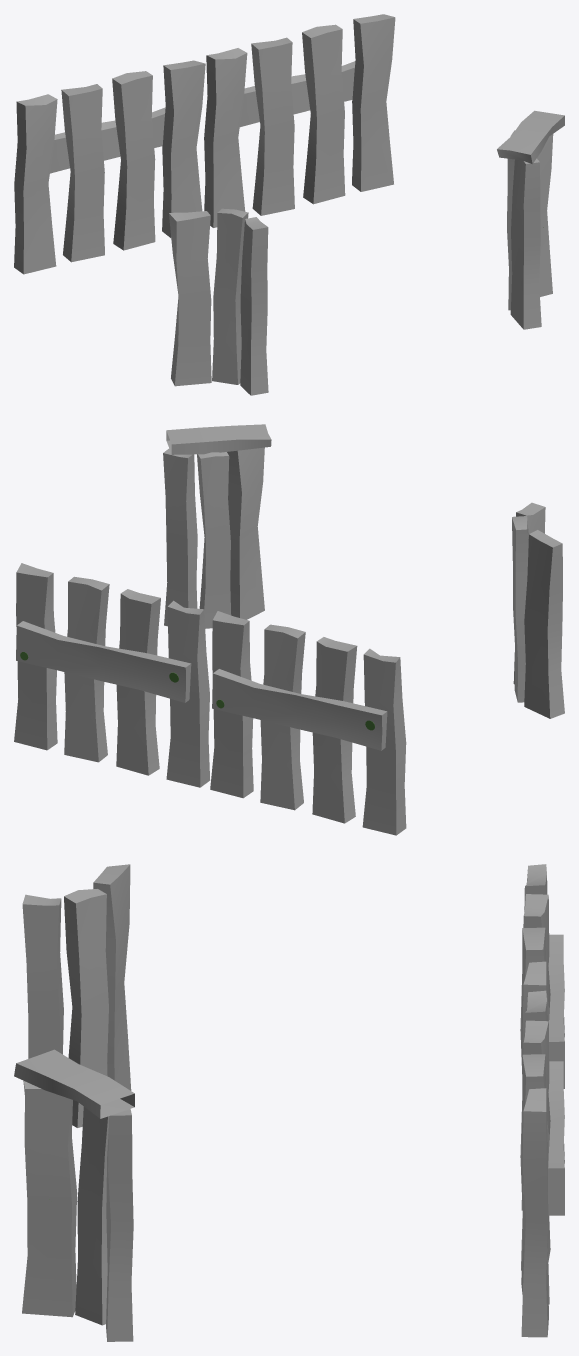
File: VallaT.fbx
The picture shows the model from 3 angles, top to bottom: view 1: azimuth 30°, elevation 25°; view 2: azimuth 150°, elevation 25°; view 3: azimuth 270°, elevation 25°; orthographic projection. The views are drawn at different scales.
Visible parts, largest first — view 1: polySurface21; view 2: polySurface21; view 3: polySurface21.
Part boxes in pixels (left/top/right/bottom): polySurface21: left=14, top=14, right=564, bottom=395; polySurface21: left=14, top=424, right=564, bottom=835; polySurface21: left=14, top=864, right=564, bottom=1341.
Size of the model in its own units: 201 by 88.7 by 181.
